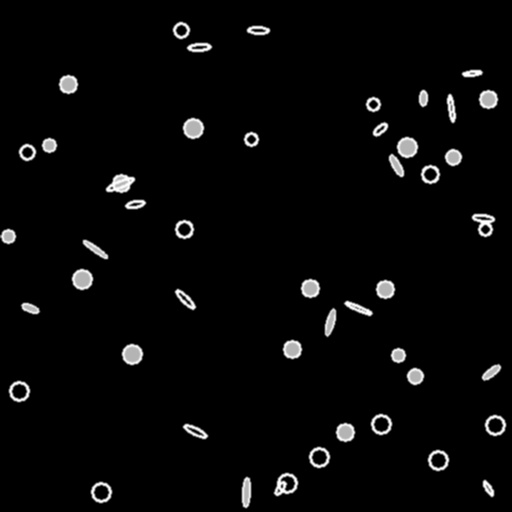pseudomonas: (82, 239, 108, 259), (174, 288, 196, 310), (106, 176, 134, 192), (344, 300, 372, 316), (387, 153, 405, 177), (182, 423, 208, 439), (323, 308, 337, 336), (481, 363, 501, 381), (372, 121, 388, 137), (242, 477, 250, 507), (273, 480, 287, 496), (21, 302, 39, 314), (447, 95, 455, 121), (482, 480, 494, 496), (187, 43, 211, 51), (126, 199, 144, 209), (472, 214, 494, 222), (462, 69, 482, 77), (247, 27, 269, 33), (420, 90, 426, 106)
synechocystis: (278, 474, 296, 492), (486, 416, 504, 434), (184, 119, 202, 137), (398, 138, 416, 156), (429, 451, 447, 469), (123, 345, 141, 363), (92, 483, 110, 501), (10, 382, 28, 400), (372, 415, 390, 433), (310, 448, 328, 466), (73, 270, 91, 288), (113, 175, 129, 191), (302, 280, 318, 296), (176, 221, 192, 237), (480, 91, 496, 107), (377, 281, 393, 297), (60, 76, 76, 92), (337, 424, 353, 440), (422, 166, 438, 182), (284, 341, 300, 357), (174, 23, 188, 37), (408, 369, 422, 383), (20, 145, 34, 159), (446, 150, 460, 164), (245, 133, 257, 145), (479, 223, 491, 235), (2, 230, 14, 242), (43, 139, 55, 151), (367, 98, 379, 110), (392, 349, 404, 361)
